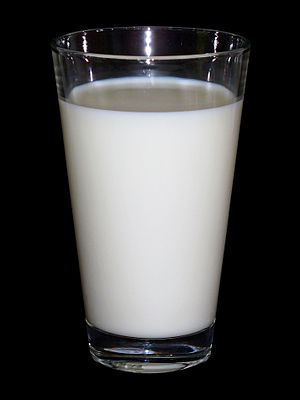glass of milk: (46, 23, 233, 380)
